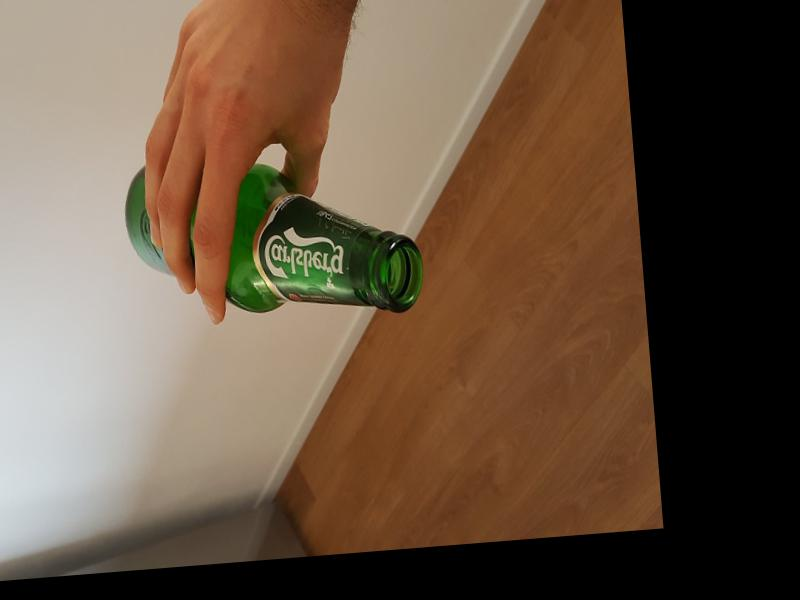Beer: (123, 151, 427, 332)
